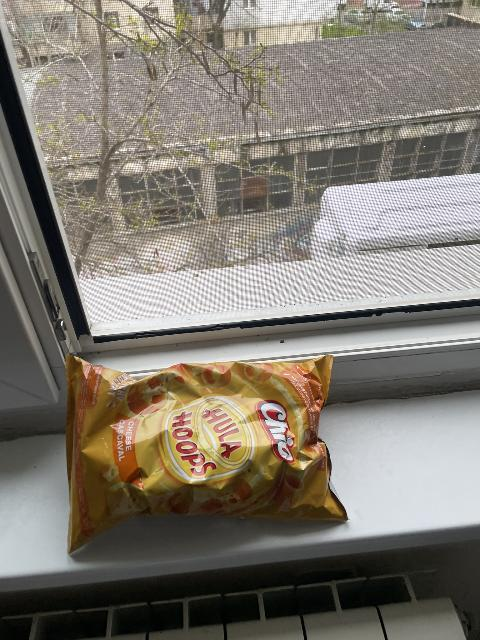Chio Hula Hoops Cheese 70g: (65, 354, 343, 553)
